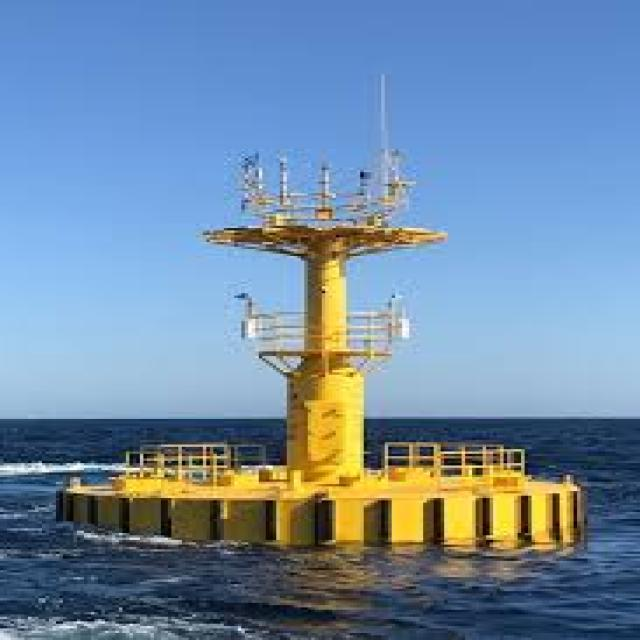buoy: (66, 114, 590, 566)
